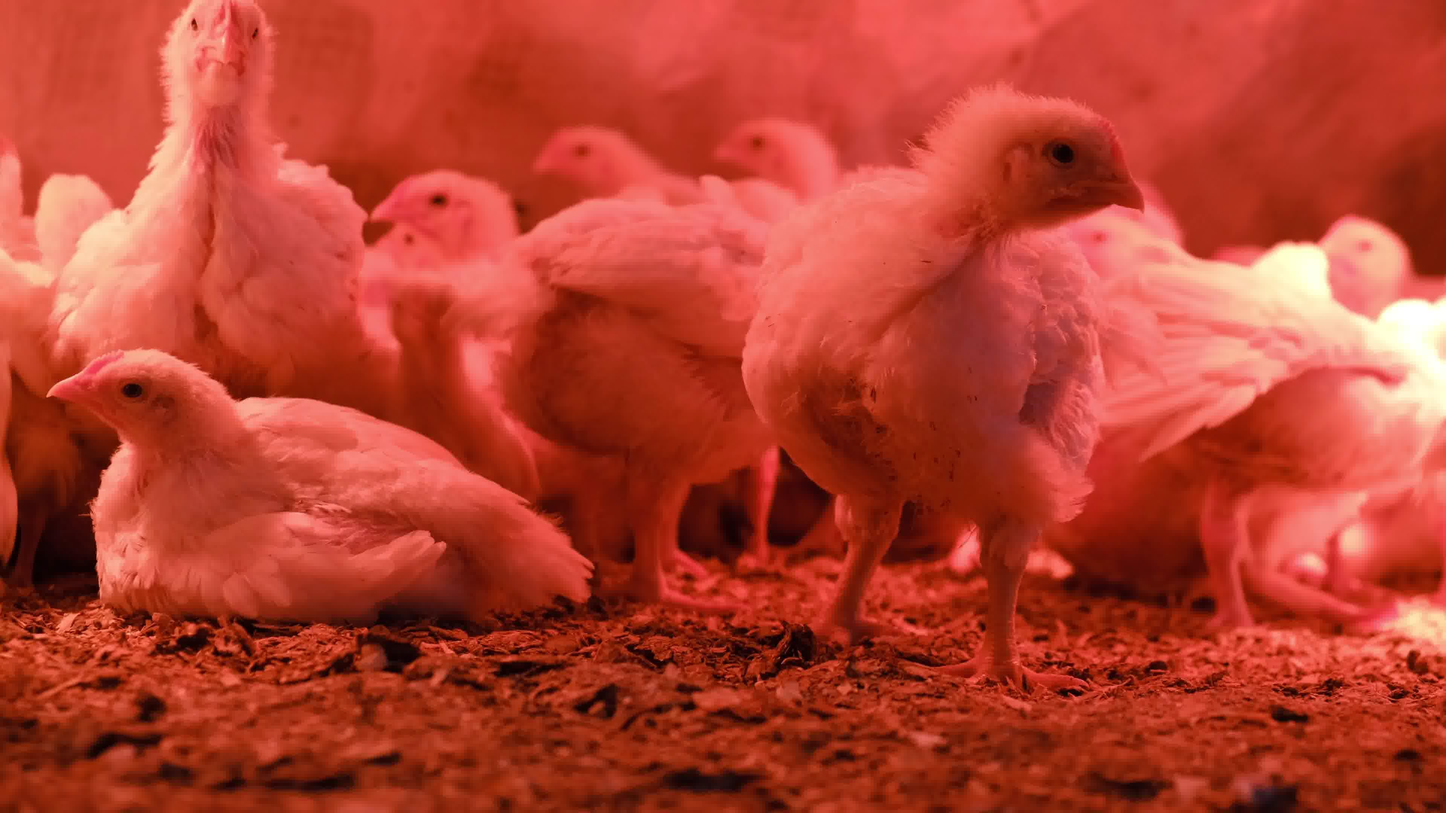AbNormal: (36, 350, 582, 621)
Normal: (740, 94, 1149, 691), (548, 122, 813, 617), (1143, 265, 1446, 636), (75, 2, 373, 348), (360, 136, 565, 461), (1267, 192, 1438, 331)
